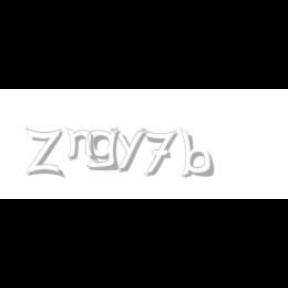7: (142, 128, 179, 178)
Z: (26, 128, 62, 178)
b: (179, 128, 217, 178)
g: (86, 128, 124, 171)
n: (65, 128, 99, 162)
y: (111, 128, 151, 172)
